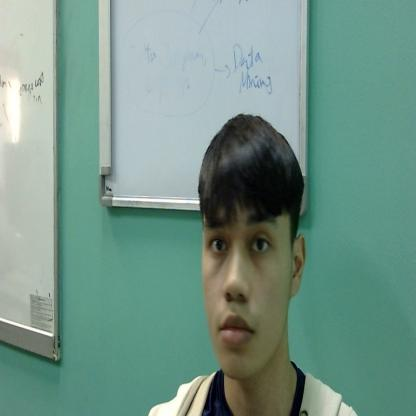Open-Eyes: (200, 205, 281, 266)
